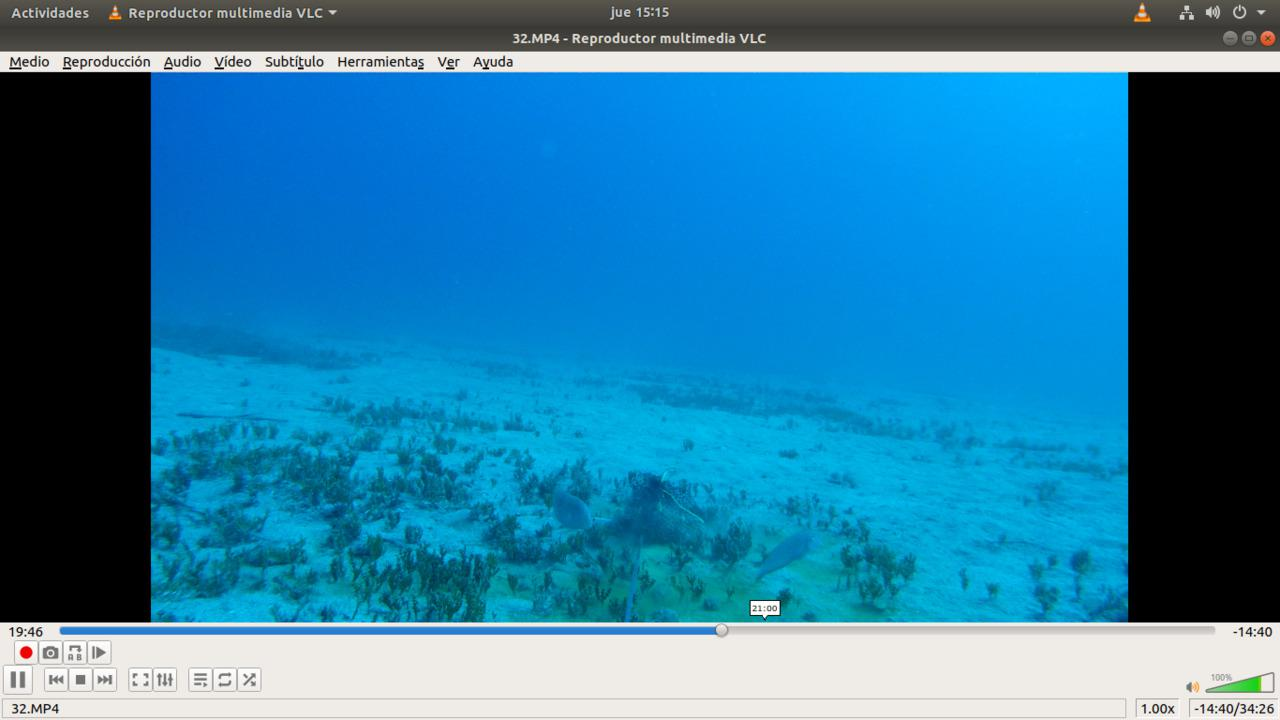raor: (745, 524, 813, 587), (536, 486, 602, 533)
